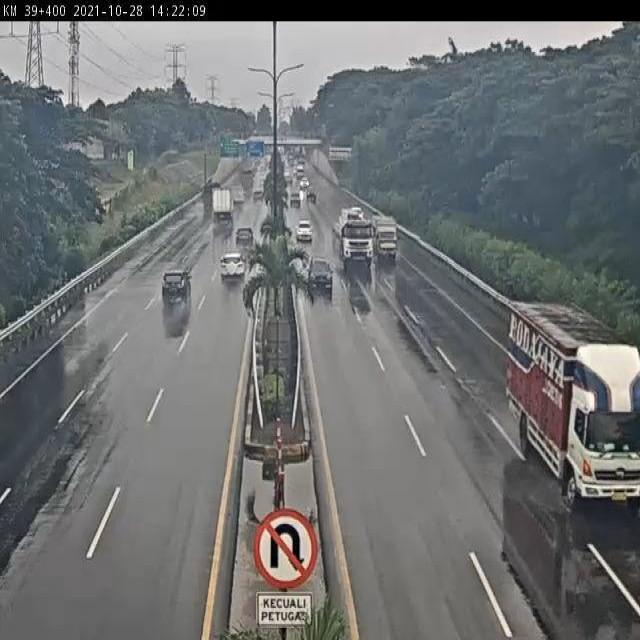car: (158, 268, 194, 307), (218, 248, 246, 283), (306, 252, 332, 287), (234, 224, 257, 248), (294, 218, 314, 242)
truck-l-: (509, 304, 640, 499), (209, 187, 235, 224)
truck-s-: (374, 210, 400, 262)
truck-xl-: (331, 207, 376, 268)
